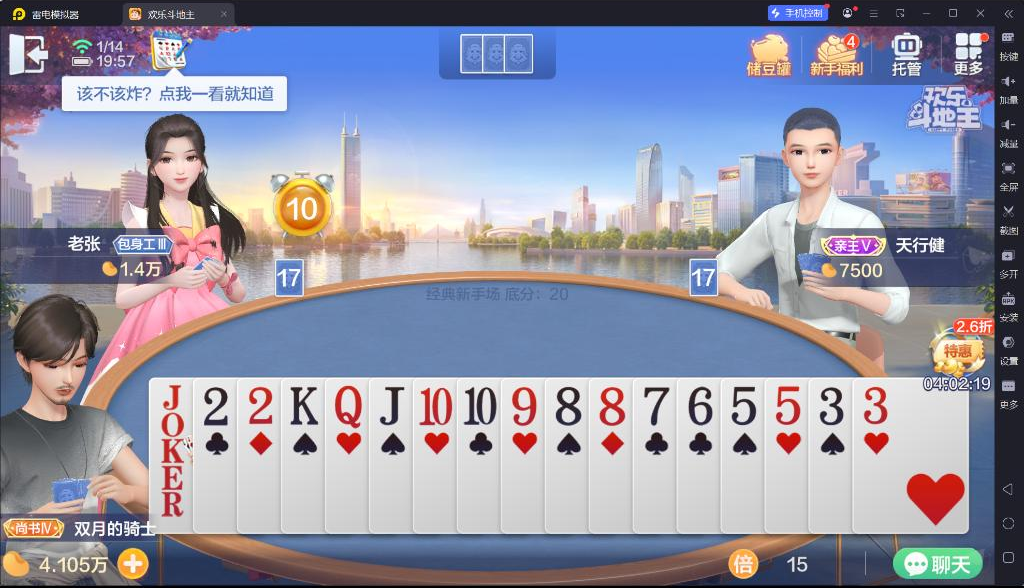J: (374, 383, 408, 428)
JOKER: (157, 382, 188, 469)
K: (287, 383, 321, 427)
Q: (331, 382, 366, 430)
eight: (550, 381, 584, 429), (595, 382, 627, 428)
five: (726, 381, 760, 427), (772, 381, 806, 427)
nine: (507, 382, 539, 428)
seven: (641, 383, 671, 428)
six: (683, 383, 715, 428)
ten: (416, 383, 454, 429), (462, 382, 498, 428)
three: (813, 382, 848, 428), (860, 383, 890, 426)
two: (244, 383, 278, 427), (201, 383, 231, 427)
